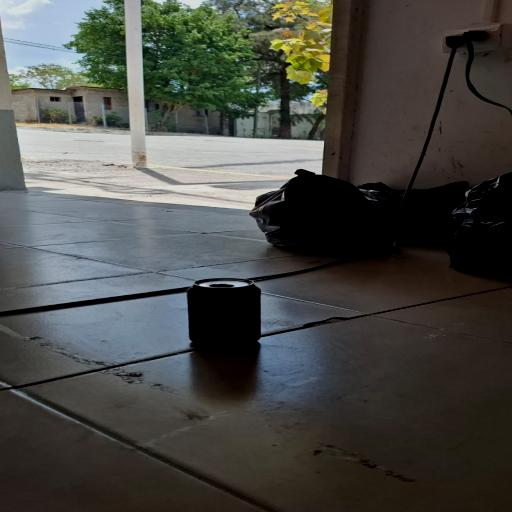LATA: (163, 277, 271, 351)
